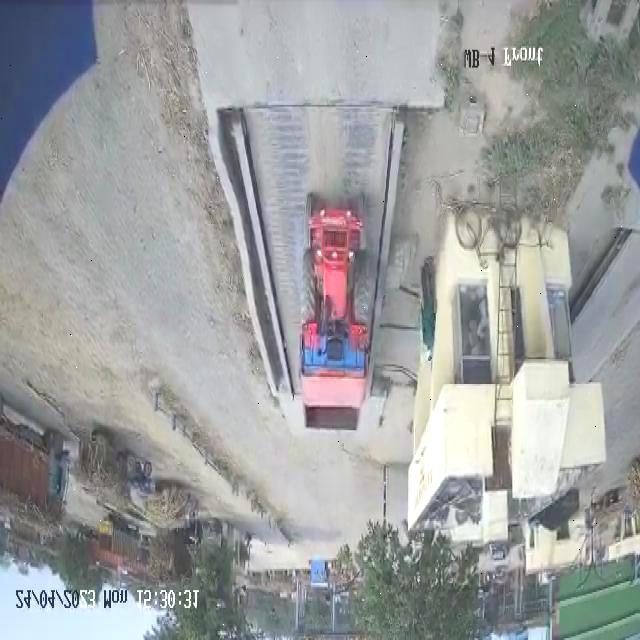Tratores - v5 YOLO V8L 2024-11-13: (294, 188, 372, 378), (119, 452, 156, 504)
